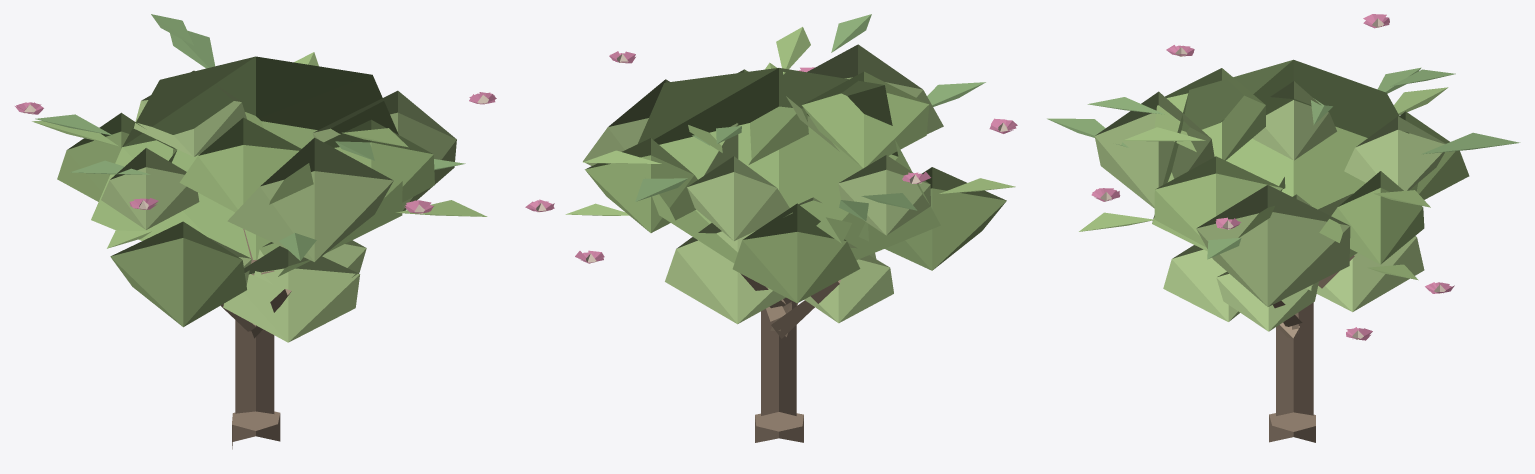
The model's file is shu.wujiaofeng__bloom.glb.
3 renders of one model, left to right at view 1: azimuth 30°, elevation 25°; view 2: azimuth 150°, elevation 25°; view 3: azimuth 270°, elevation 25°, orthographic. The views are drawn at different scales.
Visible parts, largest first — view 1: shu.wujiaofeng__bloom; view 2: shu.wujiaofeng__bloom; view 3: shu.wujiaofeng__bloom.
Boxes of the visible parts, <box> form: shu.wujiaofeng__bloom: <box>15,14,496,449</box>; shu.wujiaofeng__bloom: <box>525,14,1017,442</box>; shu.wujiaofeng__bloom: <box>1047,14,1520,442</box>.
Bounding box in the file's own units: 12.08 × 10.46 × 12.31.
